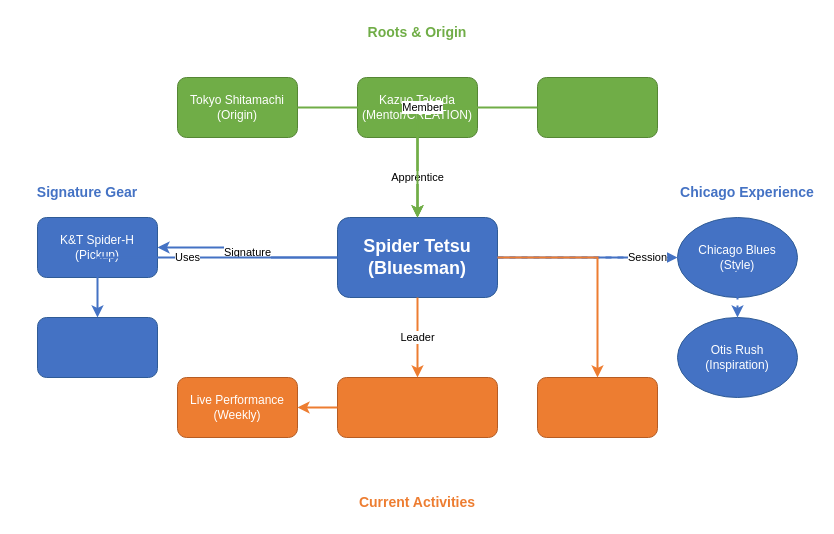
This 834x534 diagram has some shape labels left out. The centre of each missing label's shape, as x and y in pixels:
El Coyotes (Former Band): point (597, 107)
Red Hot Wagons (Current Band): point (417, 407)
Stratocaster (Main Guitar): point (97, 347)
Theater/Acting (Cross-boundary): point (597, 407)
